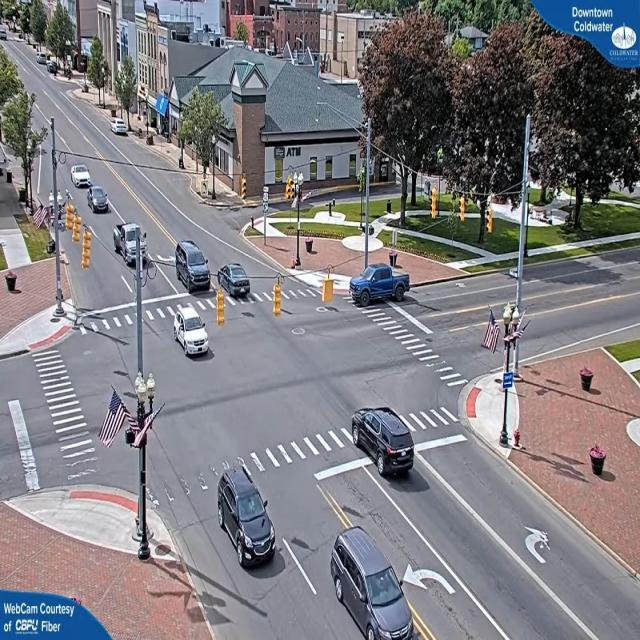car: (331, 528, 418, 638), (214, 469, 276, 572), (351, 406, 417, 479), (352, 266, 405, 307), (173, 240, 209, 291), (175, 307, 212, 356), (219, 262, 254, 297), (114, 222, 144, 262), (88, 186, 110, 214), (70, 164, 90, 188), (112, 120, 129, 136)
